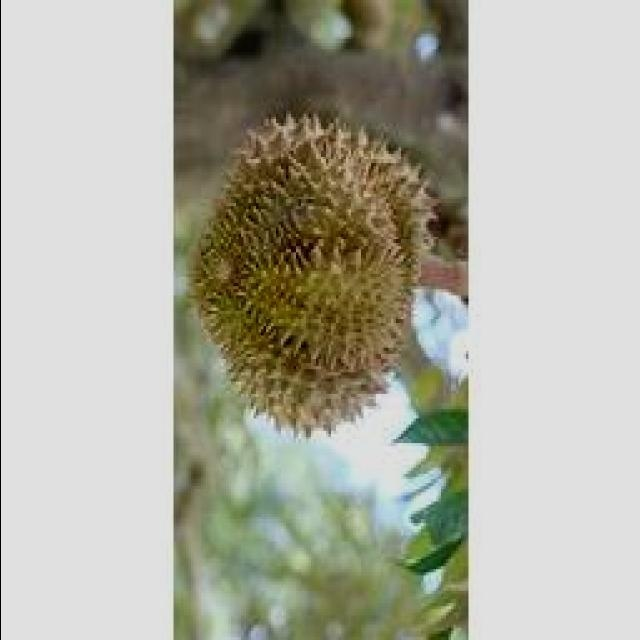agrume: (183, 95, 425, 443)
